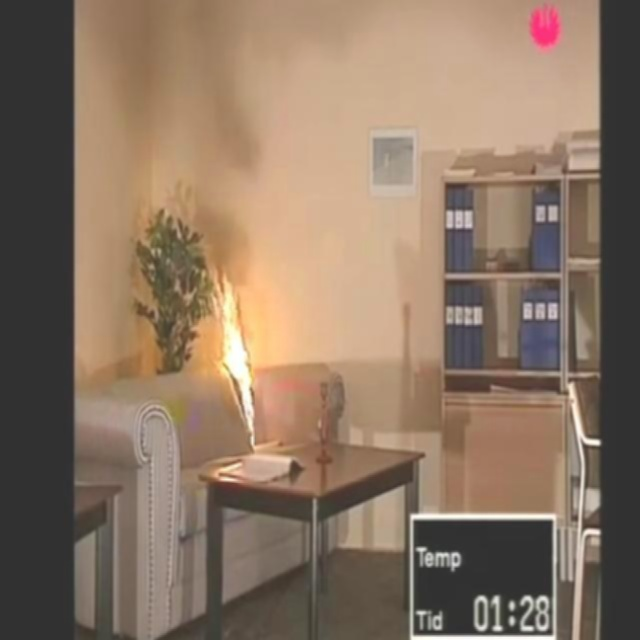fire: (200, 274, 297, 441)
